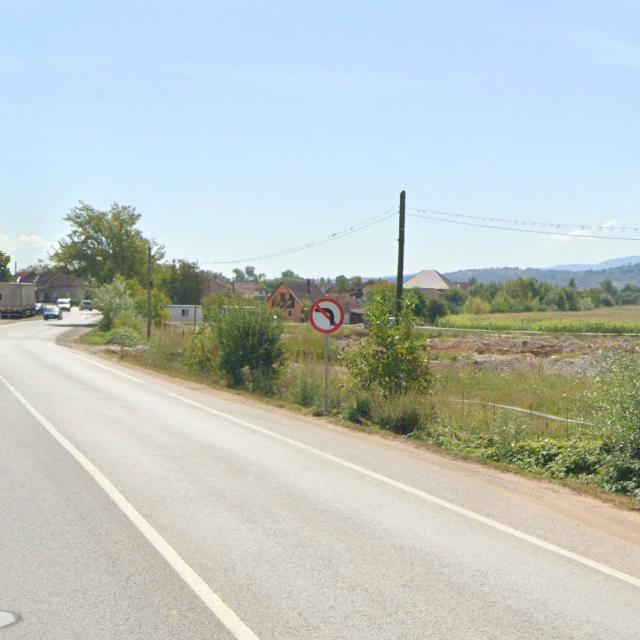forb_left: (310, 298, 344, 334)
